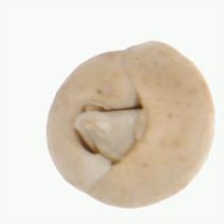L3: (72, 84, 149, 167)
L4: (46, 41, 215, 209)
